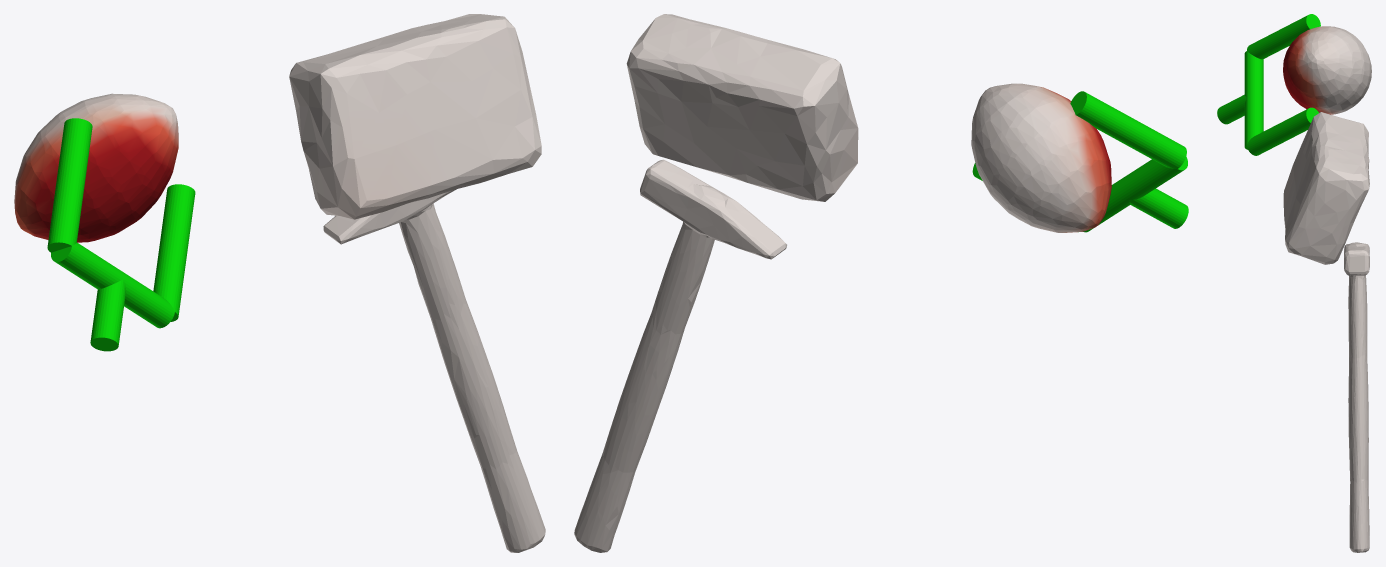
Rendered from round_000_trial_002.obj.
3 views of the same model, side by side, from view 1: azimuth 30°, elevation 25°; view 2: azimuth 150°, elevation 25°; view 3: azimuth 270°, elevation 25° (orthographic). The views are drawn at different scales.
Parts seen in each view (by area): view 1: geometry_0, geometry_1; view 2: geometry_0, geometry_1; view 3: geometry_0, geometry_1.
Part boxes in pixels (x1,y1,x2,y2): geometry_0: [14, 14, 545, 552]; geometry_1: [47, 118, 195, 351]; geometry_0: [574, 14, 1111, 552]; geometry_1: [972, 91, 1188, 232]; geometry_0: [1283, 26, 1371, 552]; geometry_1: [1217, 14, 1320, 155].
Size of the model in its own units: 0.2325 by 0.2241 by 0.0821.
